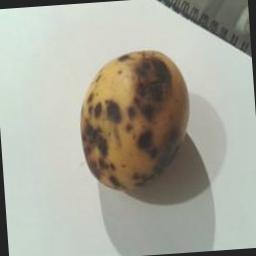Mango Rotten: (78, 32, 196, 195)
